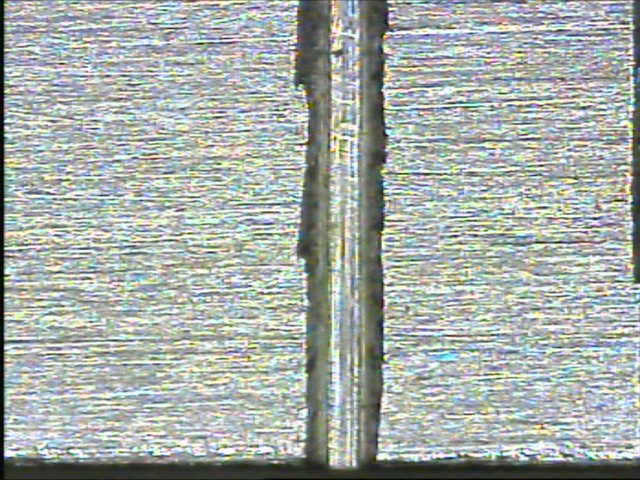line: (292, 1, 395, 475)
